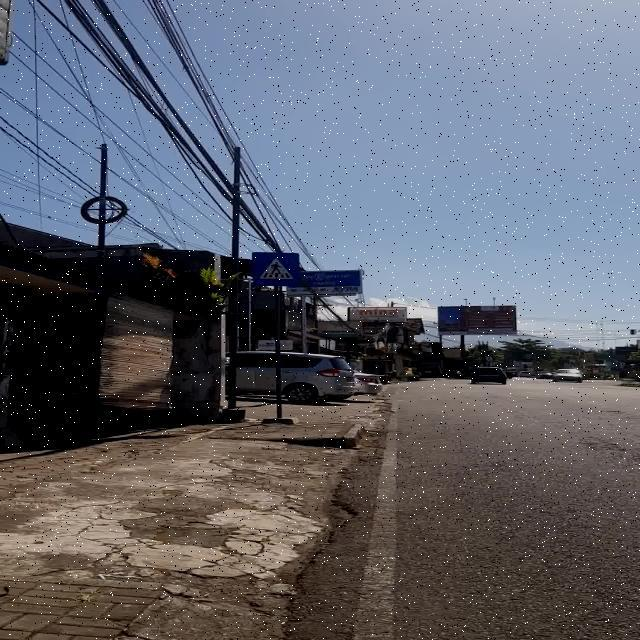Perintah Jalur Penyebrangan: (251, 252, 300, 286)
